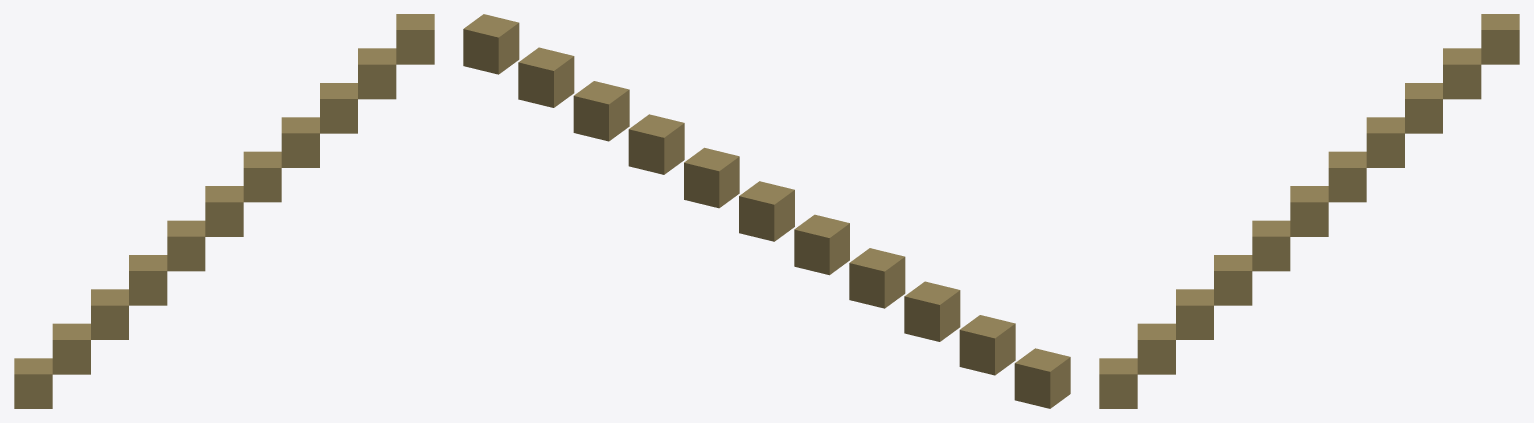
The model's file is gantry.glb.
3 views of the same model, side by side, from view 1: azimuth 90°, elevation 25°; view 2: azimuth 150°, elevation 25°; view 3: azimuth 270°, elevation 25° (orthographic). The views are drawn at different scales.
Visible parts, largest first — view 1: Gantry; view 2: Gantry; view 3: Gantry.
Boxes of the visible parts, bbox=[...] form: Gantry: bbox=[14, 14, 434, 408]; Gantry: bbox=[463, 14, 1070, 408]; Gantry: bbox=[1099, 14, 1519, 408].
Size of the model in its own units: 67 by 3 by 33.
